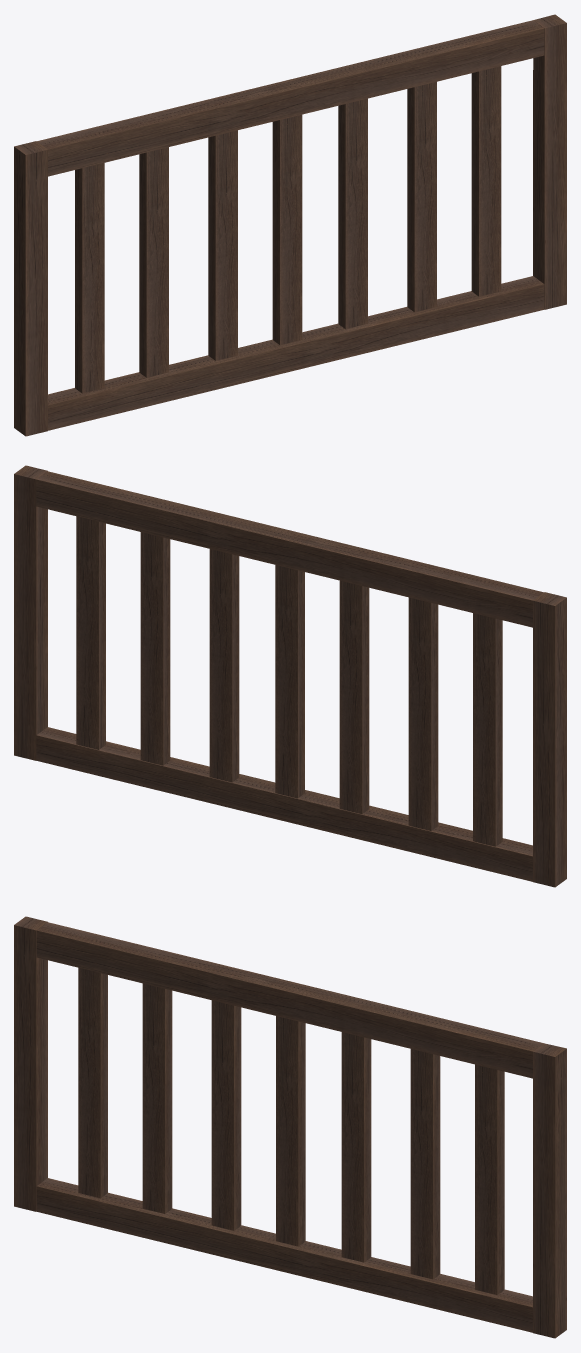
The model's file is hikido08ar.fbx.
The picture shows the model from 3 angles, top to bottom: view 1: azimuth 30°, elevation 25°; view 2: azimuth 150°, elevation 25°; view 3: azimuth 330°, elevation 25°; orthographic projection.
Visible parts, largest first — view 1: hikido08ar; view 2: hikido08ar; view 3: hikido08ar.
Boxes of the visible parts, box(x1,y1,x2,y2) form: hikido08ar: box(14, 14, 566, 436); hikido08ar: box(14, 465, 566, 887); hikido08ar: box(14, 916, 566, 1338).
Bounding box in the file's own units: 110 × 54.53 × 4.15.
